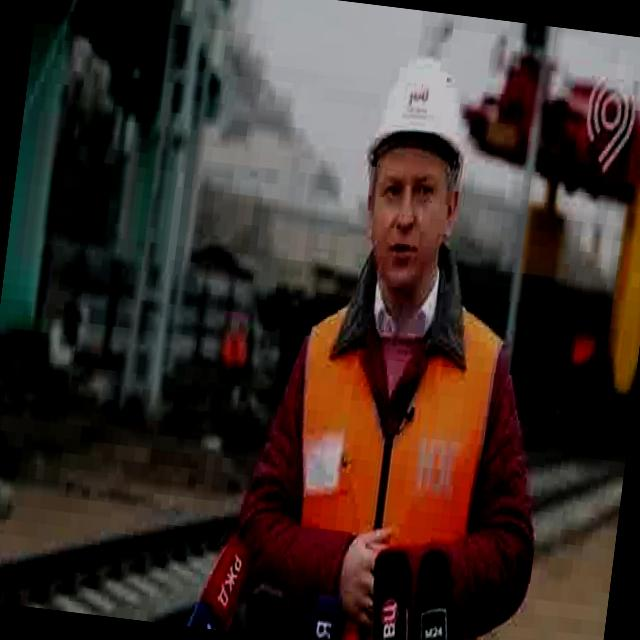vest: (264, 285, 517, 640)
